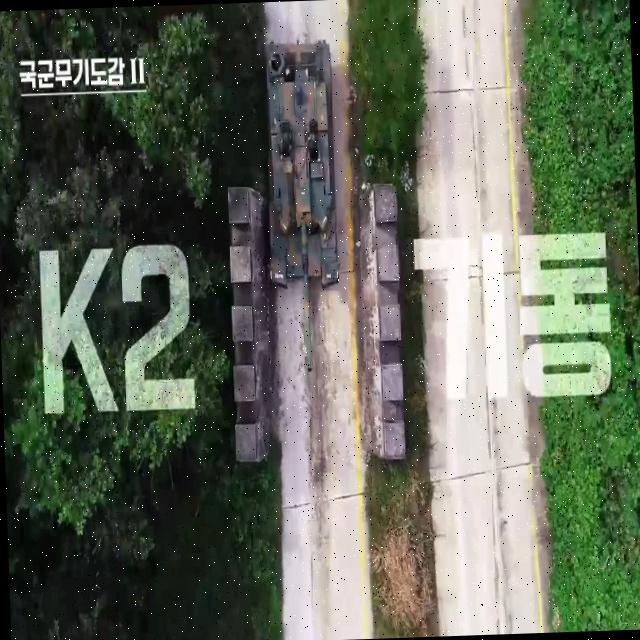korea tank: (258, 35, 345, 378)
